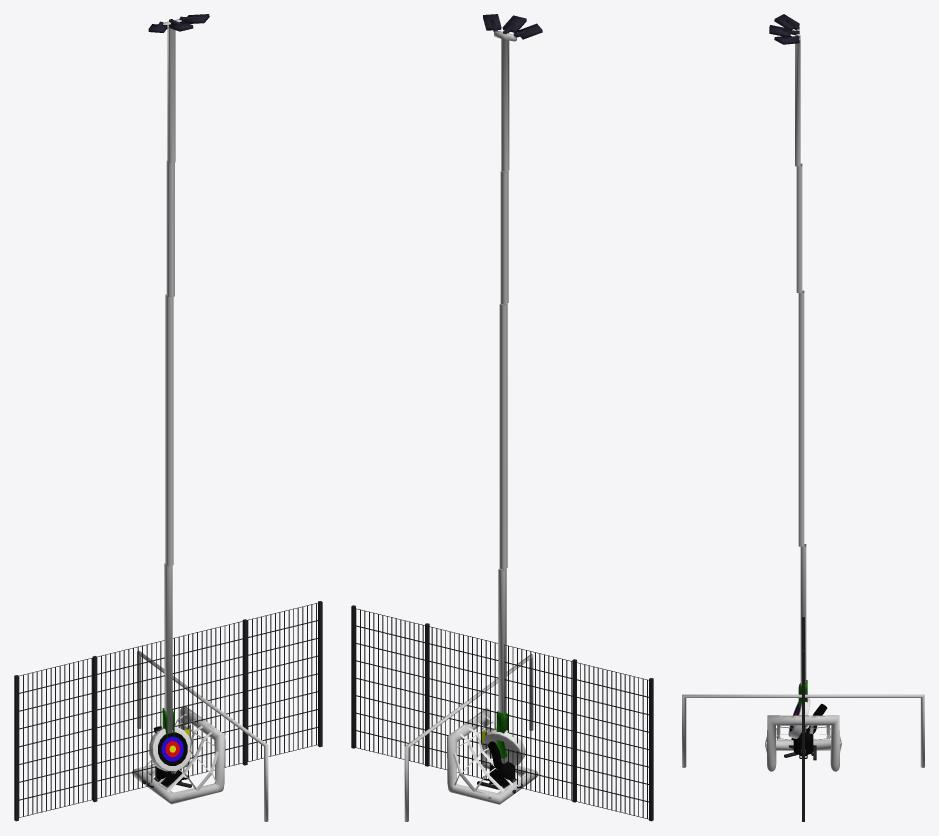
The model's file is 1Assets.gltf.
The picture shows the model from 3 angles, left to right: view 1: azimuth 30°, elevation 25°; view 2: azimuth 150°, elevation 25°; view 3: azimuth 270°, elevation 25°; orthographic projection. The views are drawn at different scales.
Parts seen in each view (by area): view 1: SM_Fencing, SM_FloodLight, SM_SGoalPost, SM_Target, SM_GoalPost; view 2: SM_Fencing, SM_FloodLight, SM_SGoalPost, SM_GoalPost, SM_Target, SM_Feeder; view 3: SM_FloodLight, SM_SGoalPost, SM_GoalPost, SM_Fencing, SM_Feeder.
Part boxes in pixels (<box>): SM_Fencing: <box>14,601,322,821</box>; SM_FloodLight: <box>143,14,209,787</box>; SM_SGoalPost: <box>132,706,225,804</box>; SM_Target: <box>149,726,191,786</box>; SM_GoalPost: <box>137,651,268,821</box>; SM_Fencing: <box>351,605,653,821</box>; SM_FloodLight: <box>477,14,542,793</box>; SM_SGoalPost: <box>447,708,538,804</box>; SM_GoalPost: <box>404,654,533,821</box>; SM_Target: <box>483,728,525,787</box>; SM_Feeder: <box>482,741,522,788</box>; SM_FloodLight: <box>769,14,816,760</box>; SM_SGoalPost: <box>765,715,841,771</box>; SM_GoalPost: <box>682,694,924,767</box>; SM_Fencing: <box>802,617,804,821</box>; SM_Feeder: <box>791,703,827,758</box>.
Bounding box in the file's own units: 10 × 24.13 × 7.29.
2 materials, 2 textured.
